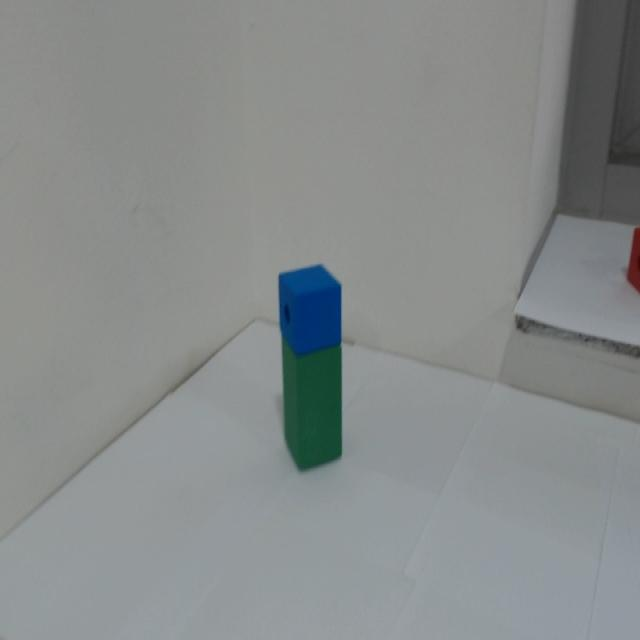cube: (278, 252, 355, 353)
